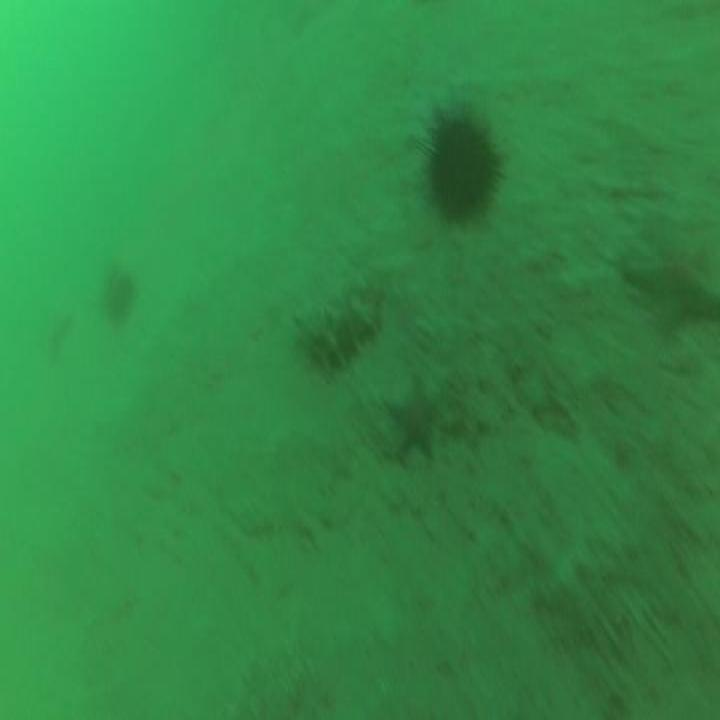echinus: (410, 90, 512, 242)
holothurian: (287, 283, 383, 361)
starfish: (622, 228, 720, 338), (383, 370, 444, 468)
